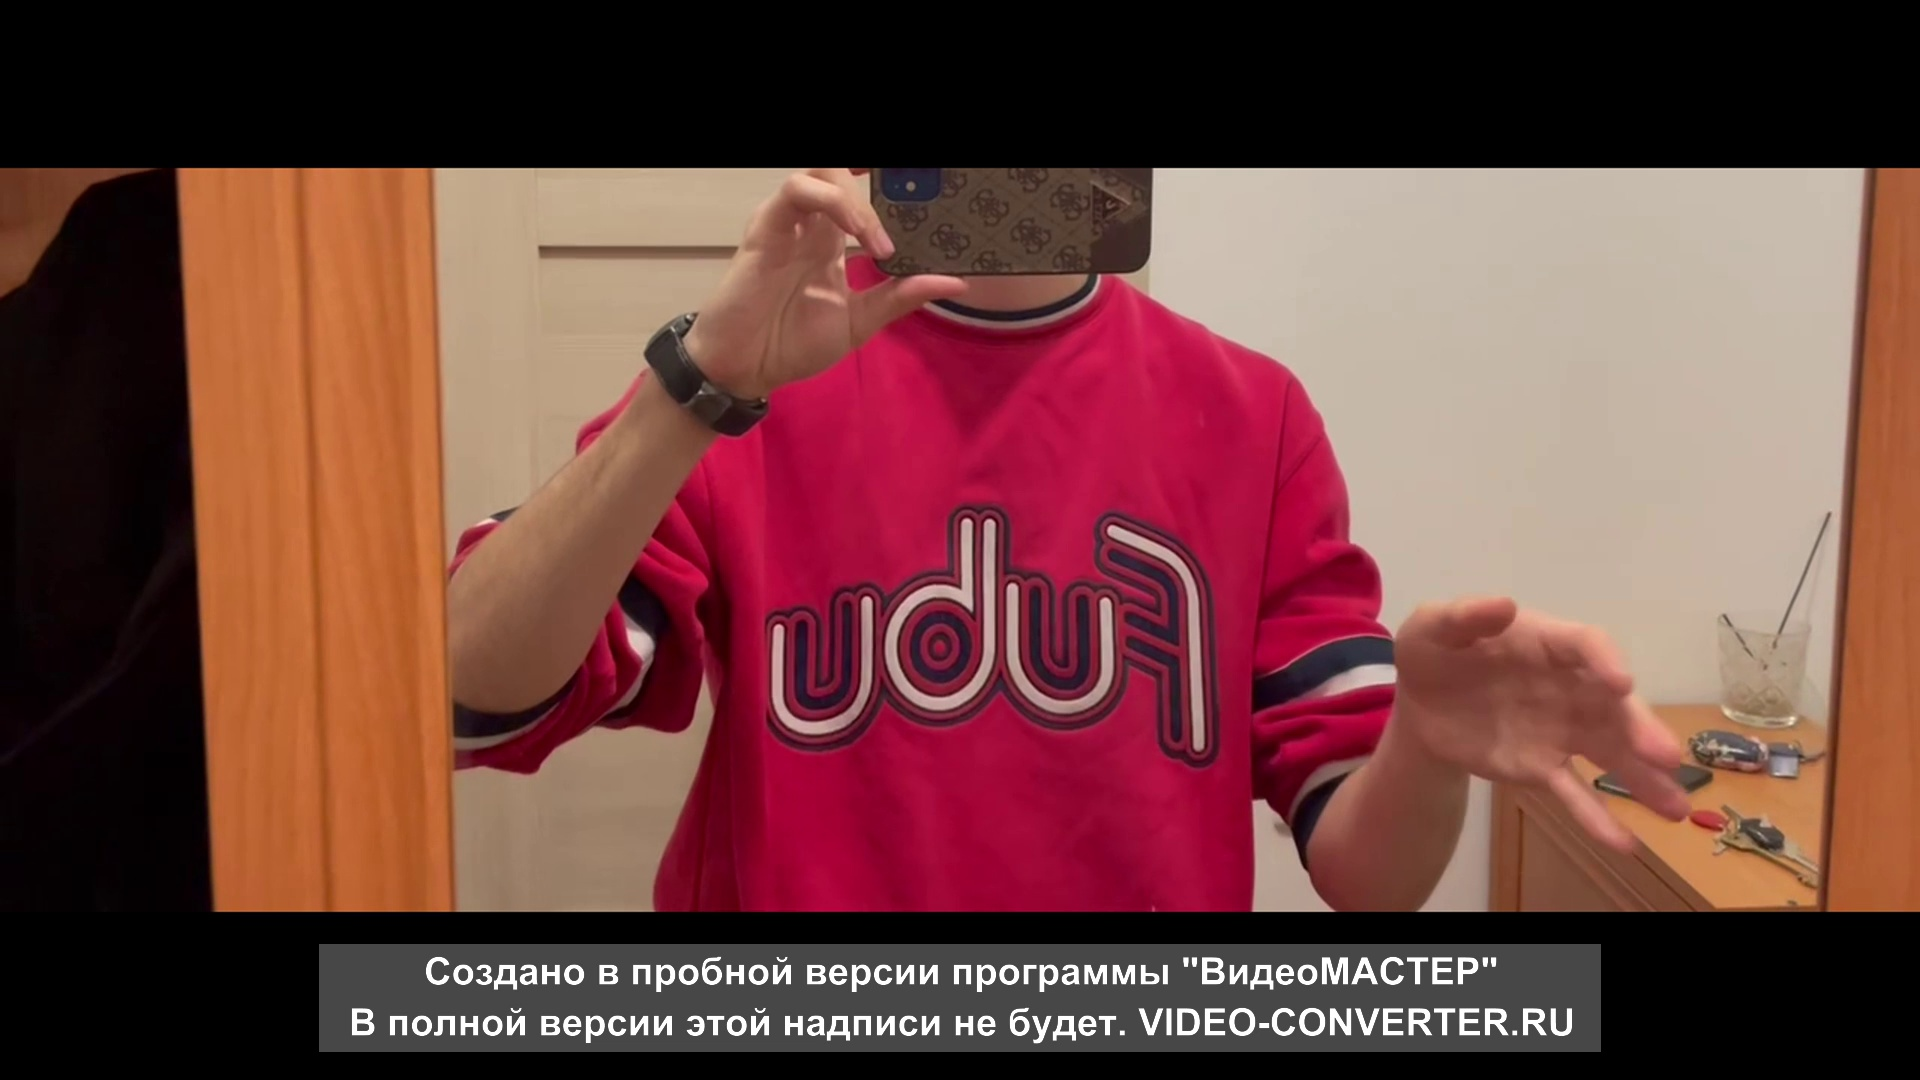Ладонь: (1395, 591, 1692, 855)
